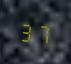seven: (35, 20, 50, 45)
three: (19, 18, 34, 43)
